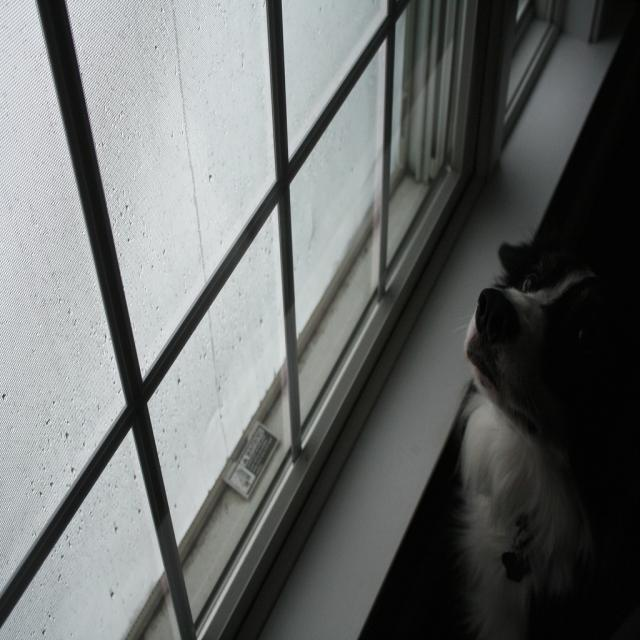dog: (440, 218, 640, 593)
